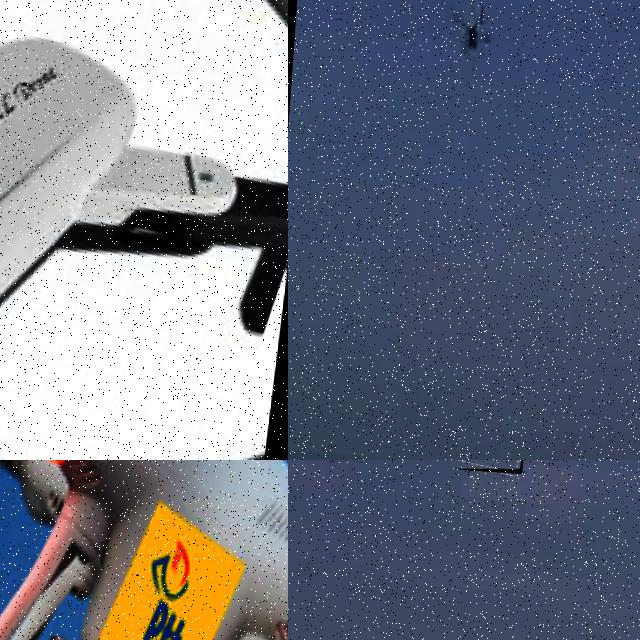0: (454, 460, 524, 473)
drone: (0, 0, 288, 460), (0, 460, 288, 640)
